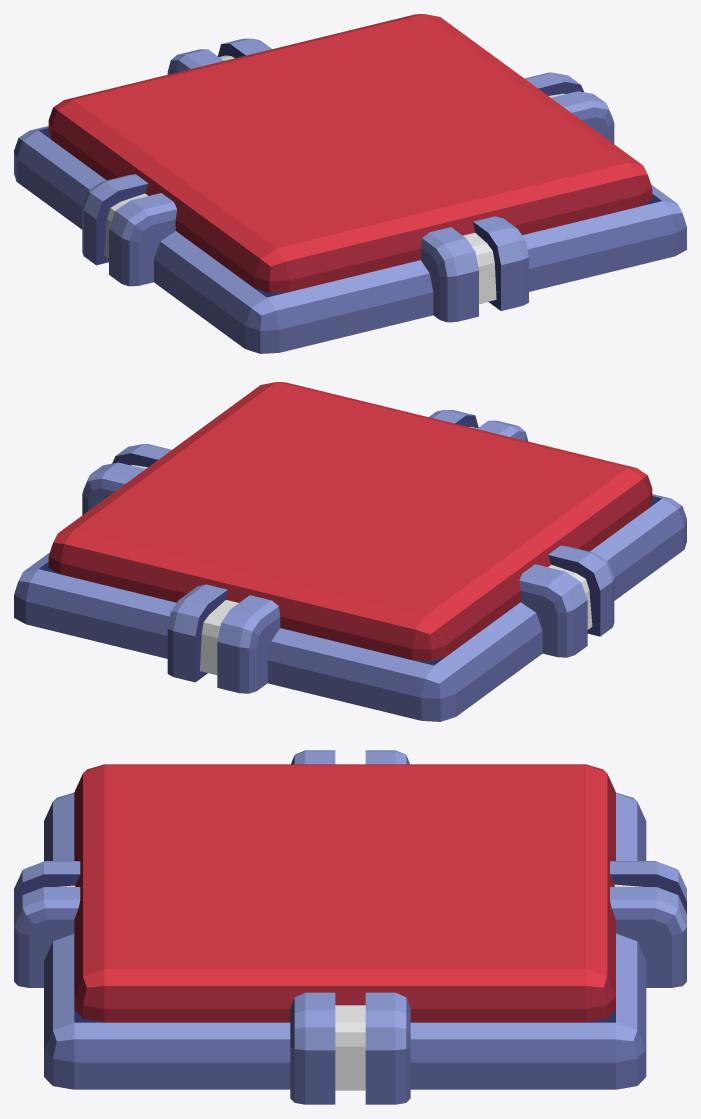
Rendered from UFO_Button.fbx.
The picture shows the model from 3 angles, top to bottom: view 1: azimuth 30°, elevation 25°; view 2: azimuth 150°, elevation 25°; view 3: azimuth 270°, elevation 25°; orthographic projection. The views are drawn at different scales.
Parts seen in each view (by area): view 1: Cube.014, Cube.012; view 2: Cube.014, Cube.012; view 3: Cube.014, Cube.012.
Part boxes in pixels (<box>): Cube.014: <box>48,14,652,293</box>; Cube.012: <box>14,38,686,353</box>; Cube.014: <box>48,382,652,661</box>; Cube.012: <box>14,409,686,721</box>; Cube.014: <box>74,764,615,1022</box>; Cube.012: <box>14,750,686,1104</box>.
Size of the model in its own units: 2.24 by 0.35 by 2.24.
